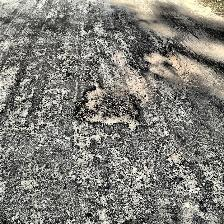pothole: (71, 82, 144, 130), (165, 152, 183, 166)
